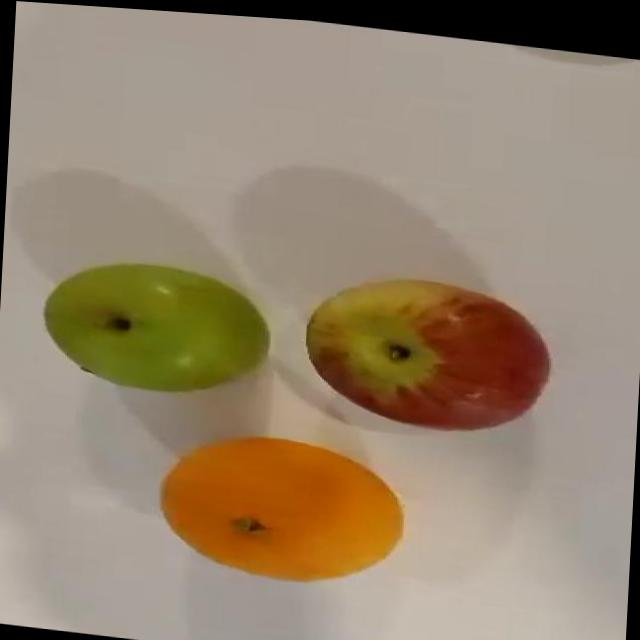Apple: (302, 260, 556, 435), (41, 250, 274, 401)
Orange: (156, 420, 408, 589)
